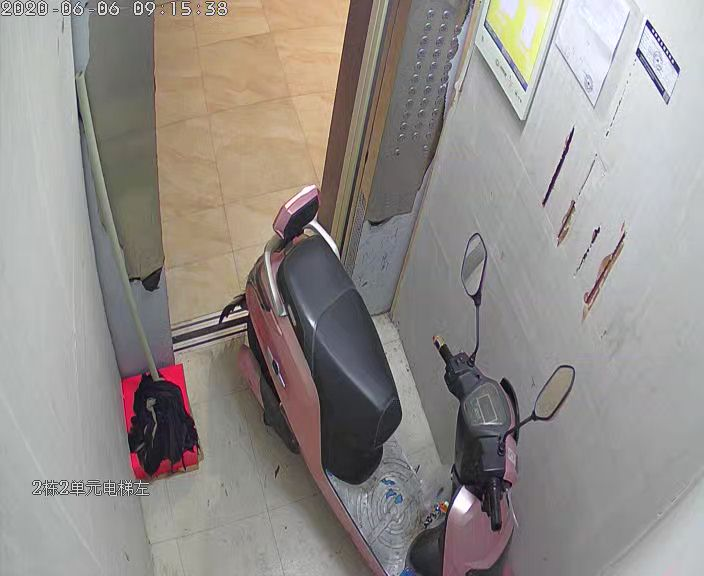Electric-bicycle: (213, 180, 578, 576)
